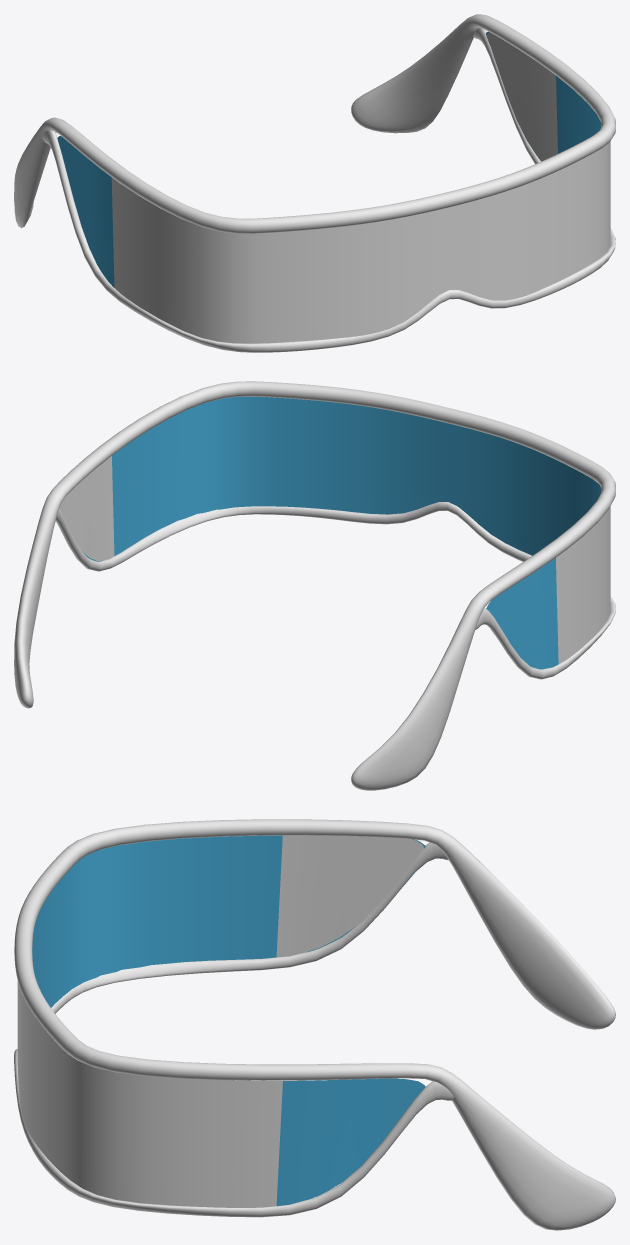
Rendered from Glasses2.fbx.
3 renders of one model, top to bottom at view 1: azimuth 30°, elevation 25°; view 2: azimuth 150°, elevation 25°; view 3: azimuth 270°, elevation 25°, orthographic. The views are drawn at different scales.
Parts seen in each view (by area): view 1: upframe; view 2: upframe; view 3: upframe.
Boxes of the visible parts, x1,y1,x2,y2 form: upframe: (14,14,615,352); upframe: (14,381,615,790); upframe: (14,819,615,1230).
Size of the model in its own units: 121 by 41.13 by 122.
